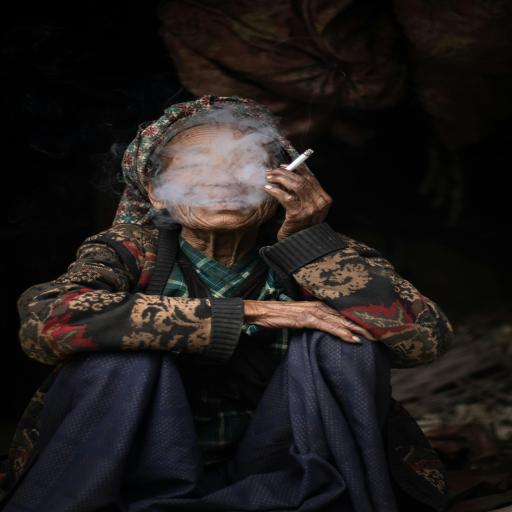terdeteksi pegang rokok: (249, 138, 344, 233)
